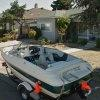Boat: (3, 33, 90, 100)
